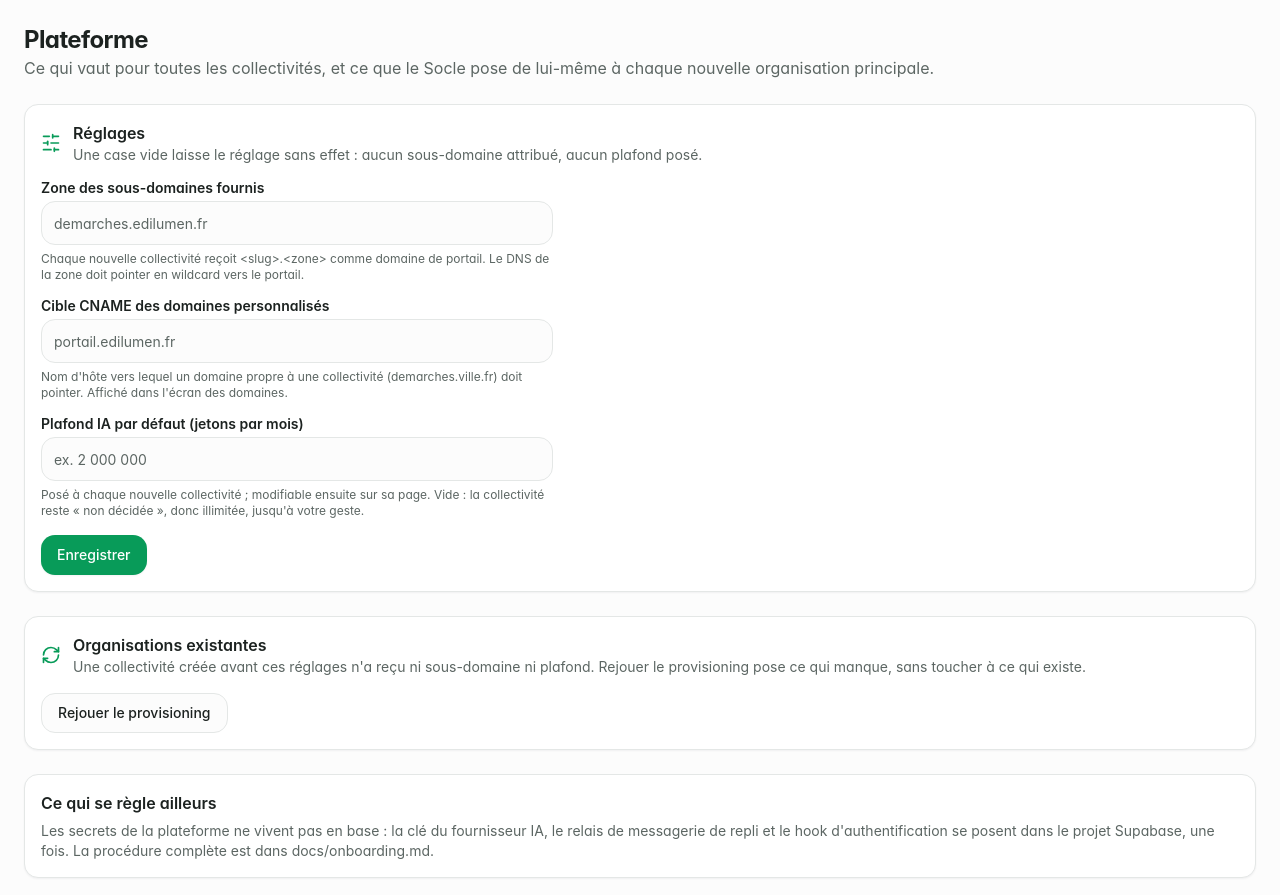
Test: PlatformSettingsPage › n'envoie rien et nomme le défaut quand une valeur ne passerait pas
Type "localhost" into the field labelled "Zone des sous-domaines fournis" at (297, 223), box [41,201,553,245]
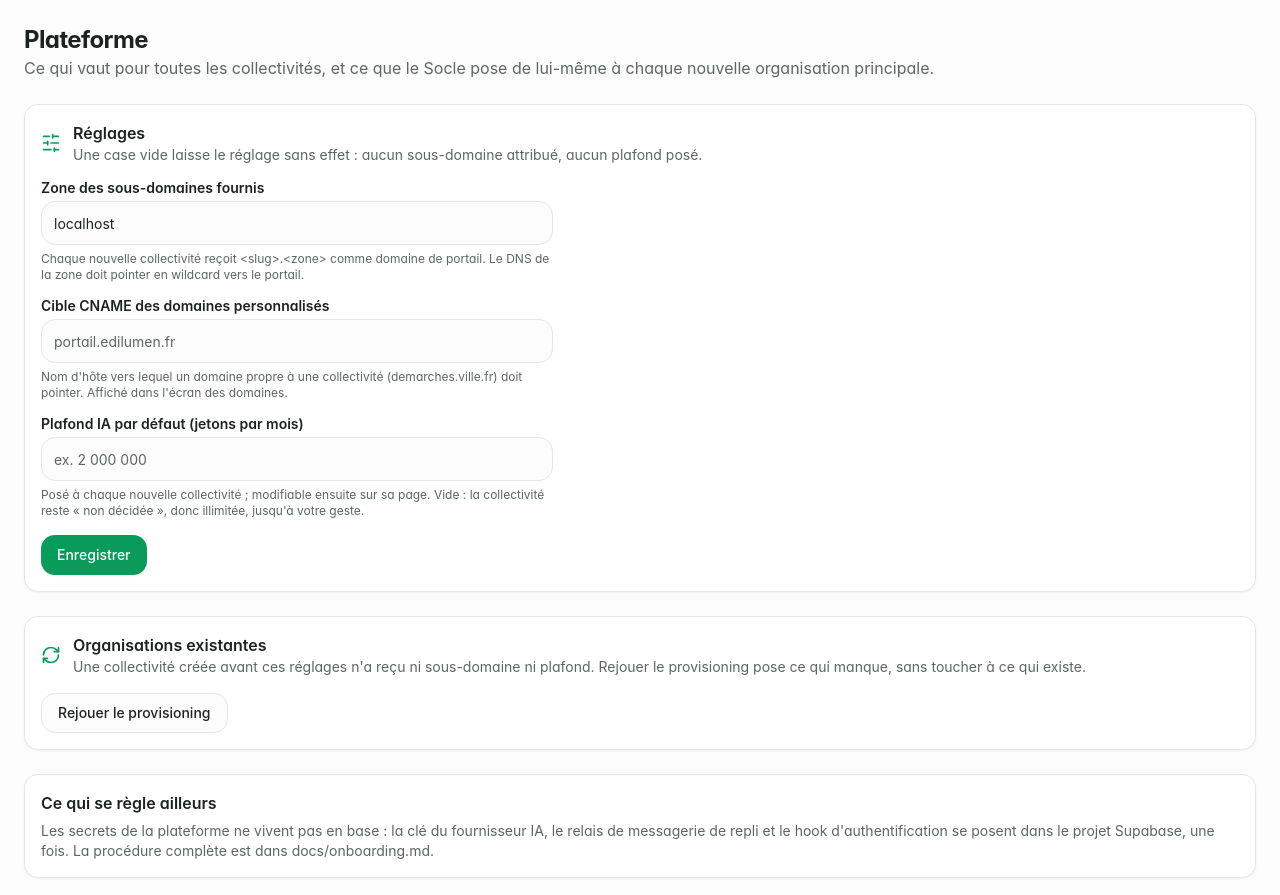
Click the button "Enregistrer" at (94, 555), box [41,535,146,575]
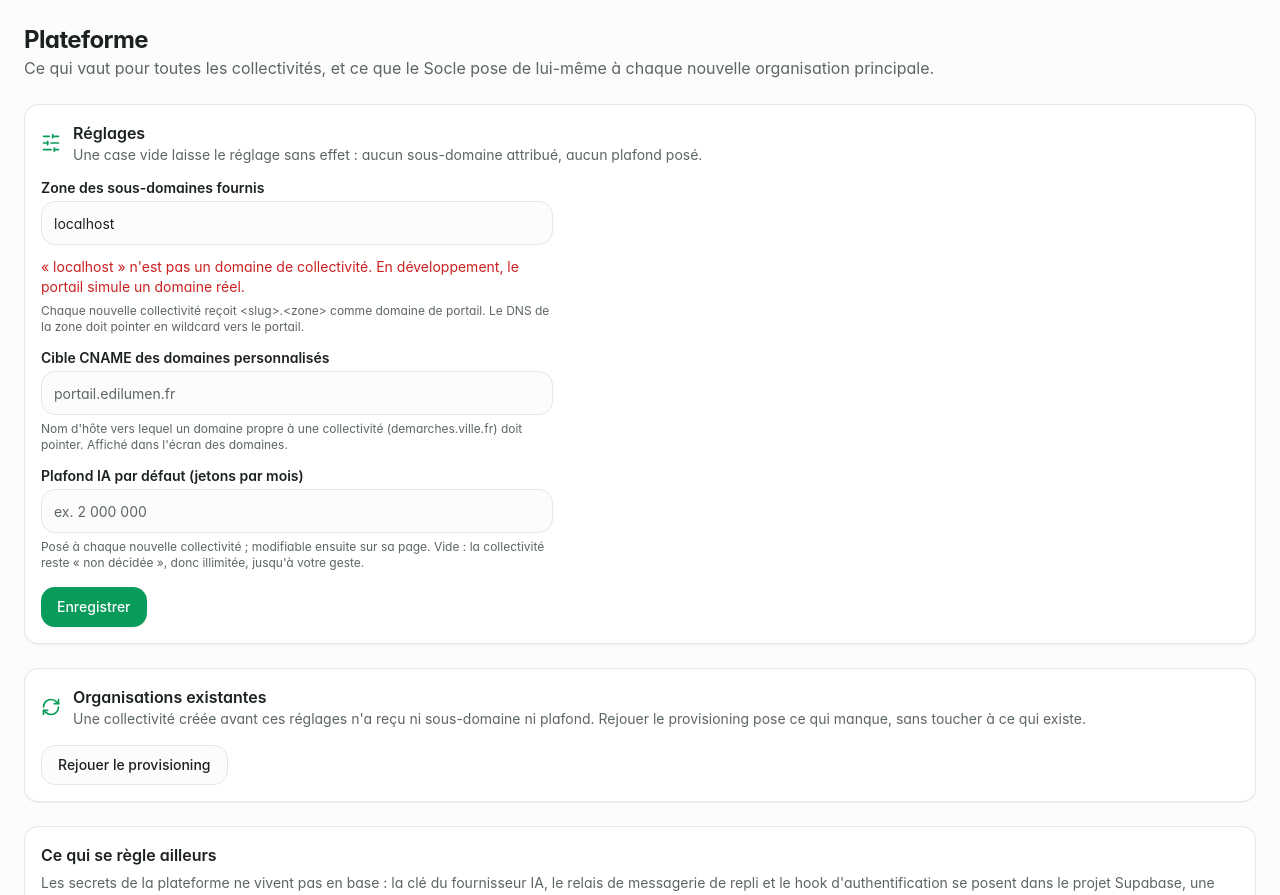
Expected: the text "localhost" is shown, [41,258,519,295]
